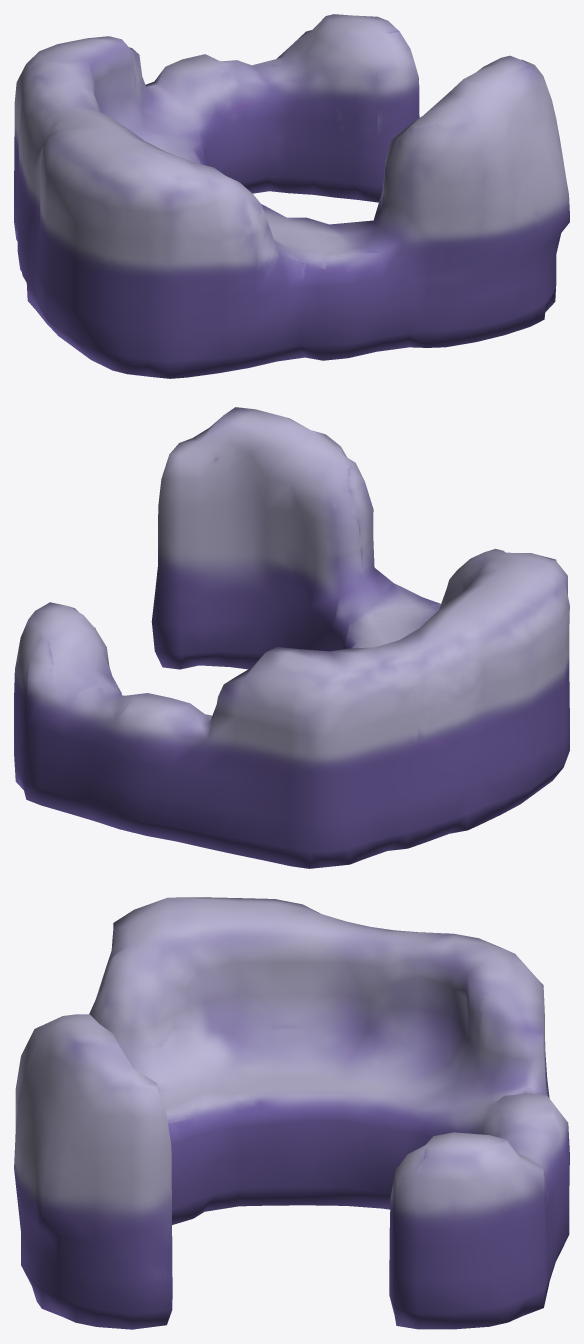
Rendered from Island3.glb.
3 renders of one model, top to bottom at view 1: azimuth 30°, elevation 25°; view 2: azimuth 150°, elevation 25°; view 3: azimuth 270°, elevation 25°, orthographic. The views are drawn at different scales.
Visible parts, largest first — view 1: Island2; view 2: Island2; view 3: Island2.
Part boxes in pixels (<box>): Island2: <box>14,14,569,378</box>; Island2: <box>14,407,569,868</box>; Island2: <box>14,897,569,1329</box>.
Bounding box in the file's own units: 73.84 × 39.83 × 73.77.
1 material, 1 textured.
